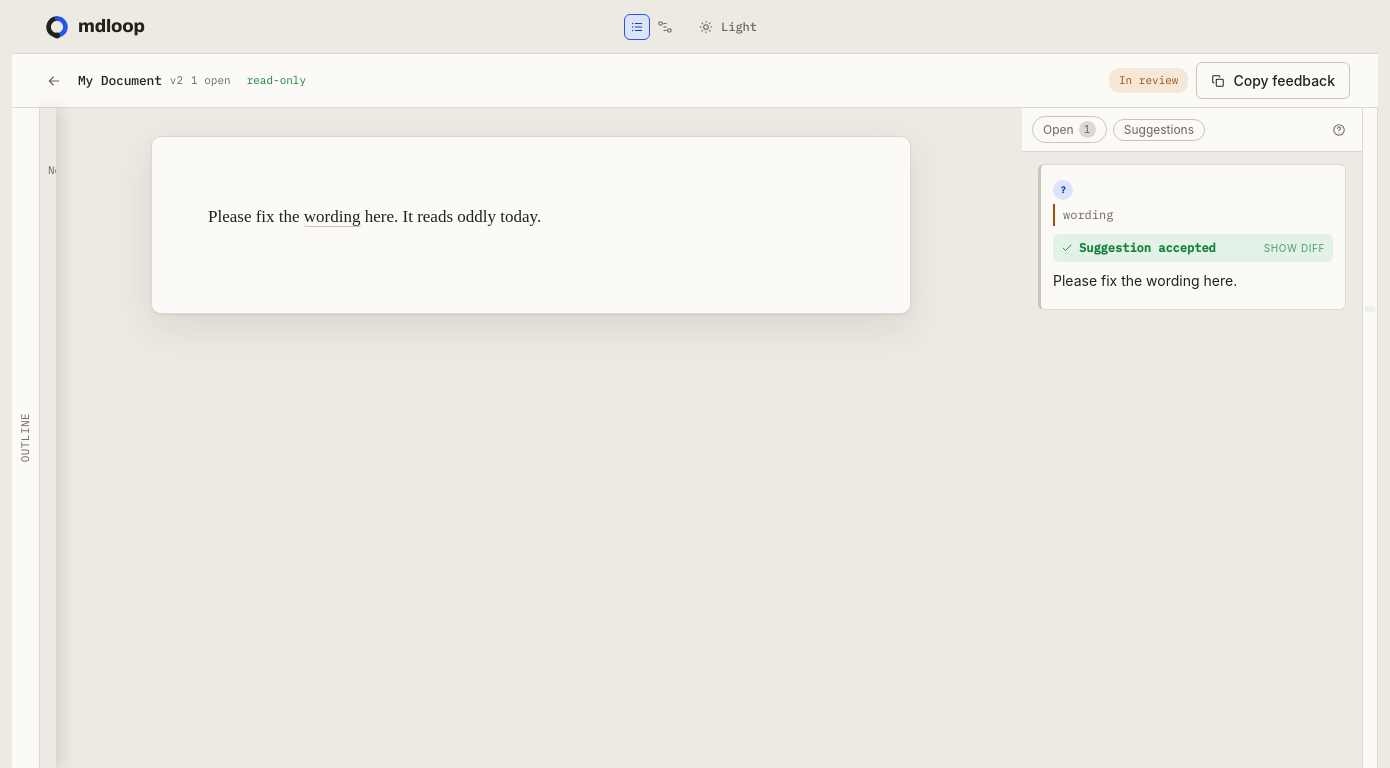
Test: Viewer — accepted-pending suggestion overlay (ADR 0007 decision 6) › the card toggle drives the same shared expand state as the body mark
Check: the text "Please fix the wording here. It reads oddly today." is shown, box [208,206,541,227]
Click the button with class "suggestion-status".
click(1193, 248)  # box [1053,234,1333,262]
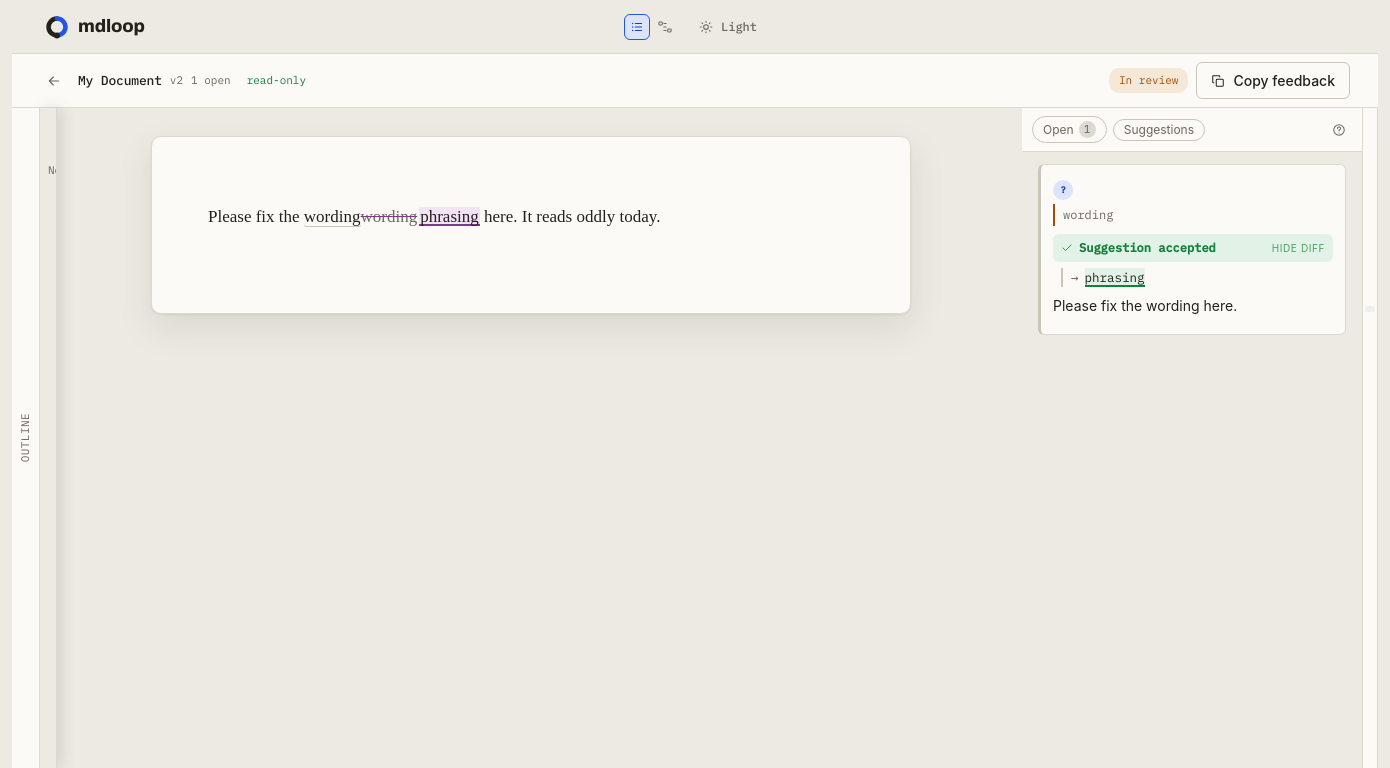
Check: the button with class "suggestion-status" is expanded
Check: the element with class "anchor-suggestion-overlay" is shown, box [360,207,480,226]
Click the button with class "suggestion-status".
click(1193, 248)  # box [1053,234,1333,262]
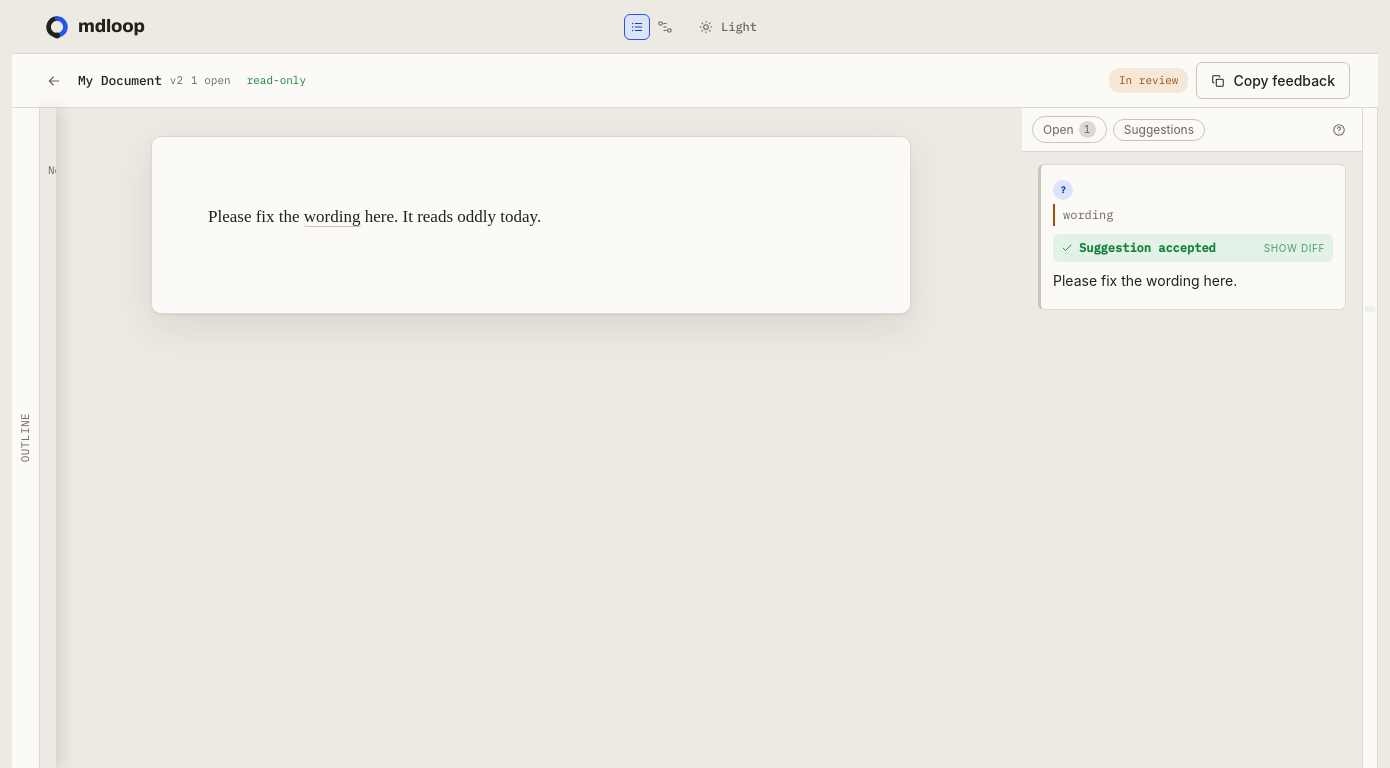
Check: the button with class "suggestion-status" is collapsed, box [1053,234,1333,262]
Check: the element with class "anchor-suggestion-overlay" is gone
